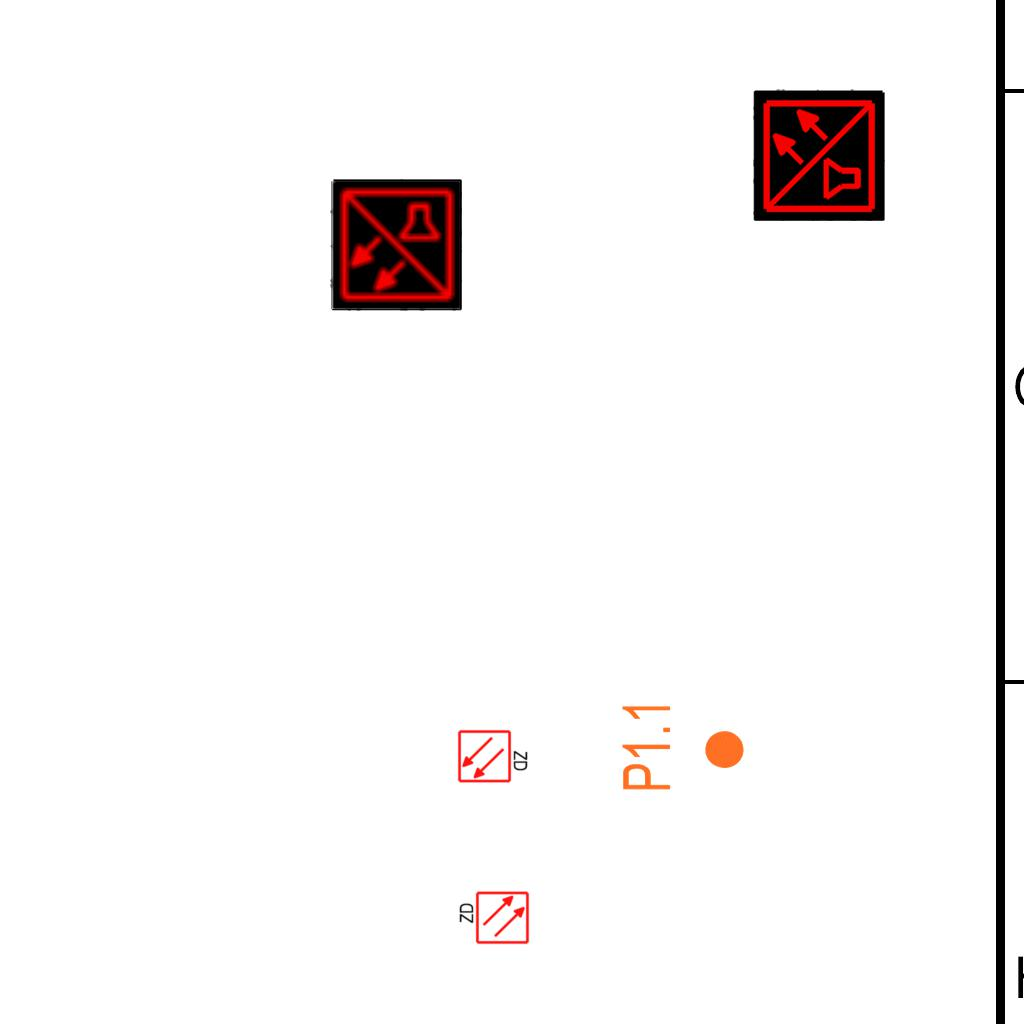Downlight_LED_Einbauleuchten_Flur: (619, 700, 747, 793)
OKW_Multisensormelder_(Kombination_optischer_Rauch-Kahlenmonoxid_Waerme-Melder): (330, 179, 462, 311), (753, 89, 885, 221)
ZD_Melder_in_Zwischendecke_mit_Revisionsoeffnung_mind_40_x_40_cm: (456, 890, 530, 947), (457, 727, 531, 784)
